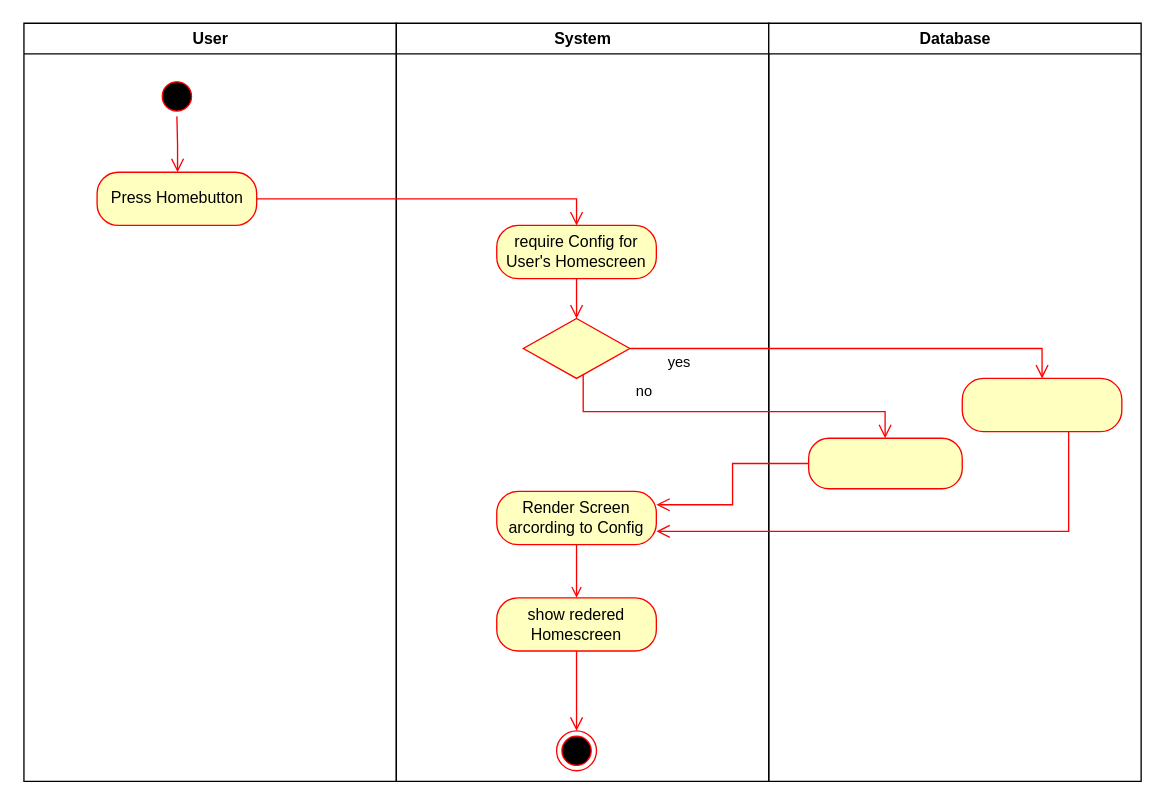
The diagram is 1164 pixels wide and 805 high, and some of its shapes have lost their labels. Here are the shapes that lost their labels. From the top down, the centre of each, then its label:
At point 576,347: "Custom Config found".
At point 1041,404: "Return User's Config".
At point 884,463: "Return standart Config".
